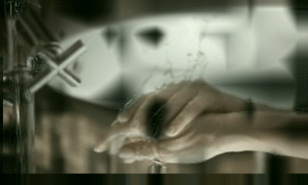washing hand: (86, 61, 223, 169)
